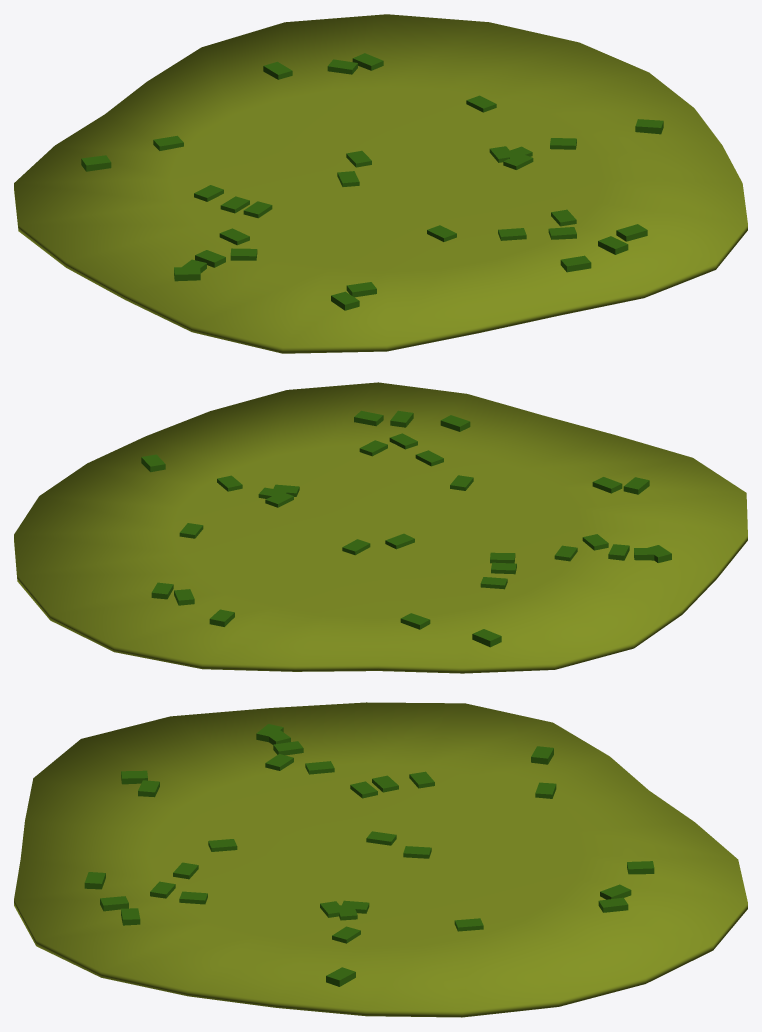
Rendered from sauce-relish.glb.
The picture shows the model from 3 angles, top to bottom: view 1: azimuth 30°, elevation 25°; view 2: azimuth 150°, elevation 25°; view 3: azimuth 270°, elevation 25°; orthographic projection. The views are drawn at different scales.
Visible parts, largest first — view 1: sauce-relish, sauce-relish-fleck; view 2: sauce-relish, sauce-relish-fleck; view 3: sauce-relish, sauce-relish-fleck.
Part boxes in pixels (x1,y1,x2,y2): sauce-relish: (14,14,747,353); sauce-relish-fleck: (81,53,663,310); sauce-relish: (14,382,747,673); sauce-relish-fleck: (141,410,671,647); sauce-relish: (14,702,747,1017); sauce-relish-fleck: (84,724,654,986).
Bounding box in the file's own units: 8.38 × 0.18 × 8.42.
